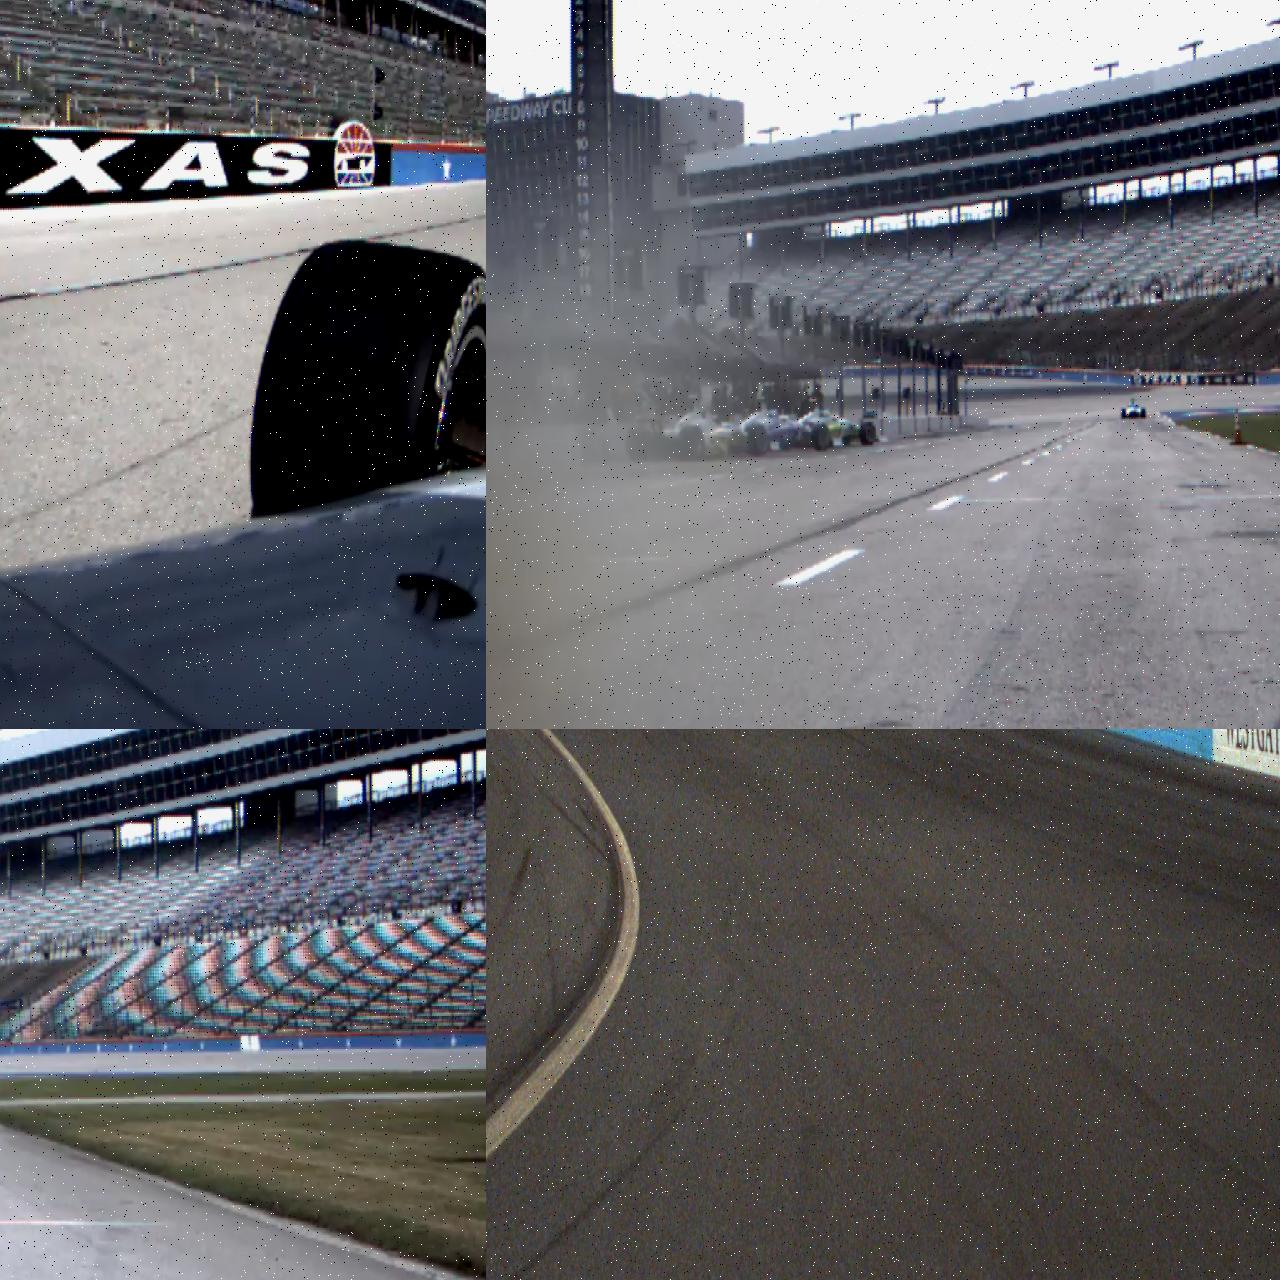AV: (627, 394, 781, 462), (1122, 397, 1146, 418)
Wheel: (251, 238, 486, 501), (679, 425, 704, 461), (626, 429, 651, 462), (749, 424, 769, 456), (812, 423, 831, 451), (860, 422, 876, 445), (1122, 408, 1126, 418), (1142, 407, 1145, 417)
